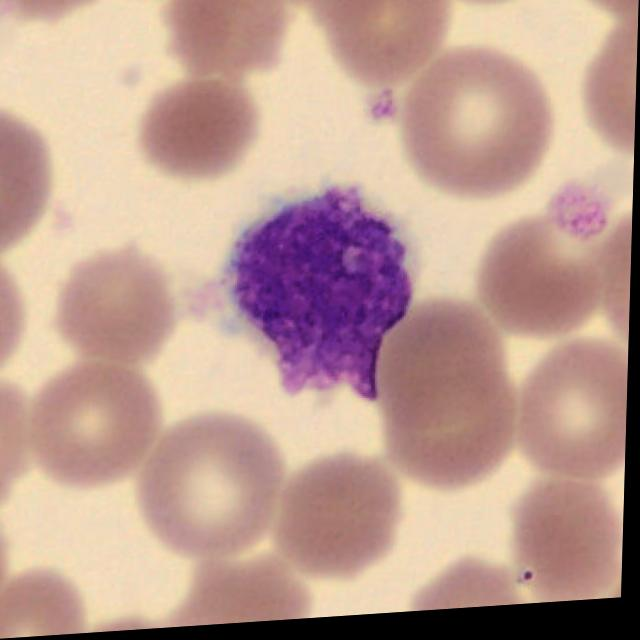Linfocito: (223, 189, 416, 404)
